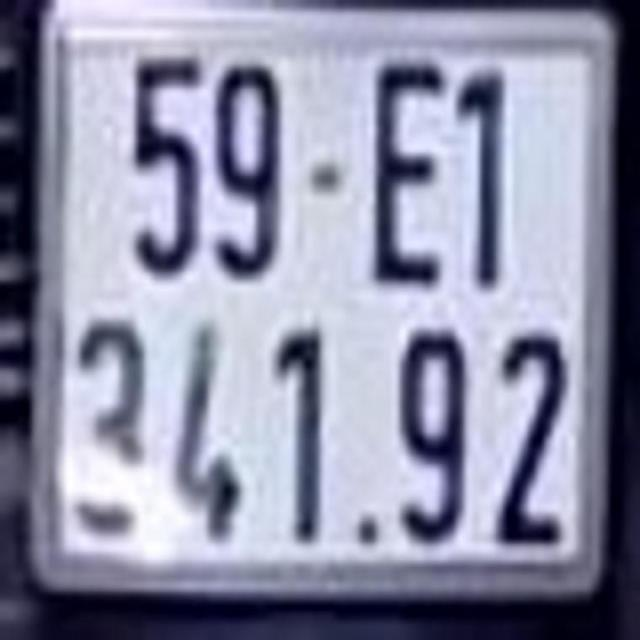1: (267, 308, 338, 550), (449, 58, 519, 292)
2: (498, 309, 569, 552)
3: (74, 315, 152, 543)
4: (172, 312, 242, 559)
5: (126, 48, 207, 281)
9: (395, 314, 472, 549), (212, 48, 280, 282)
E: (365, 54, 447, 294)
